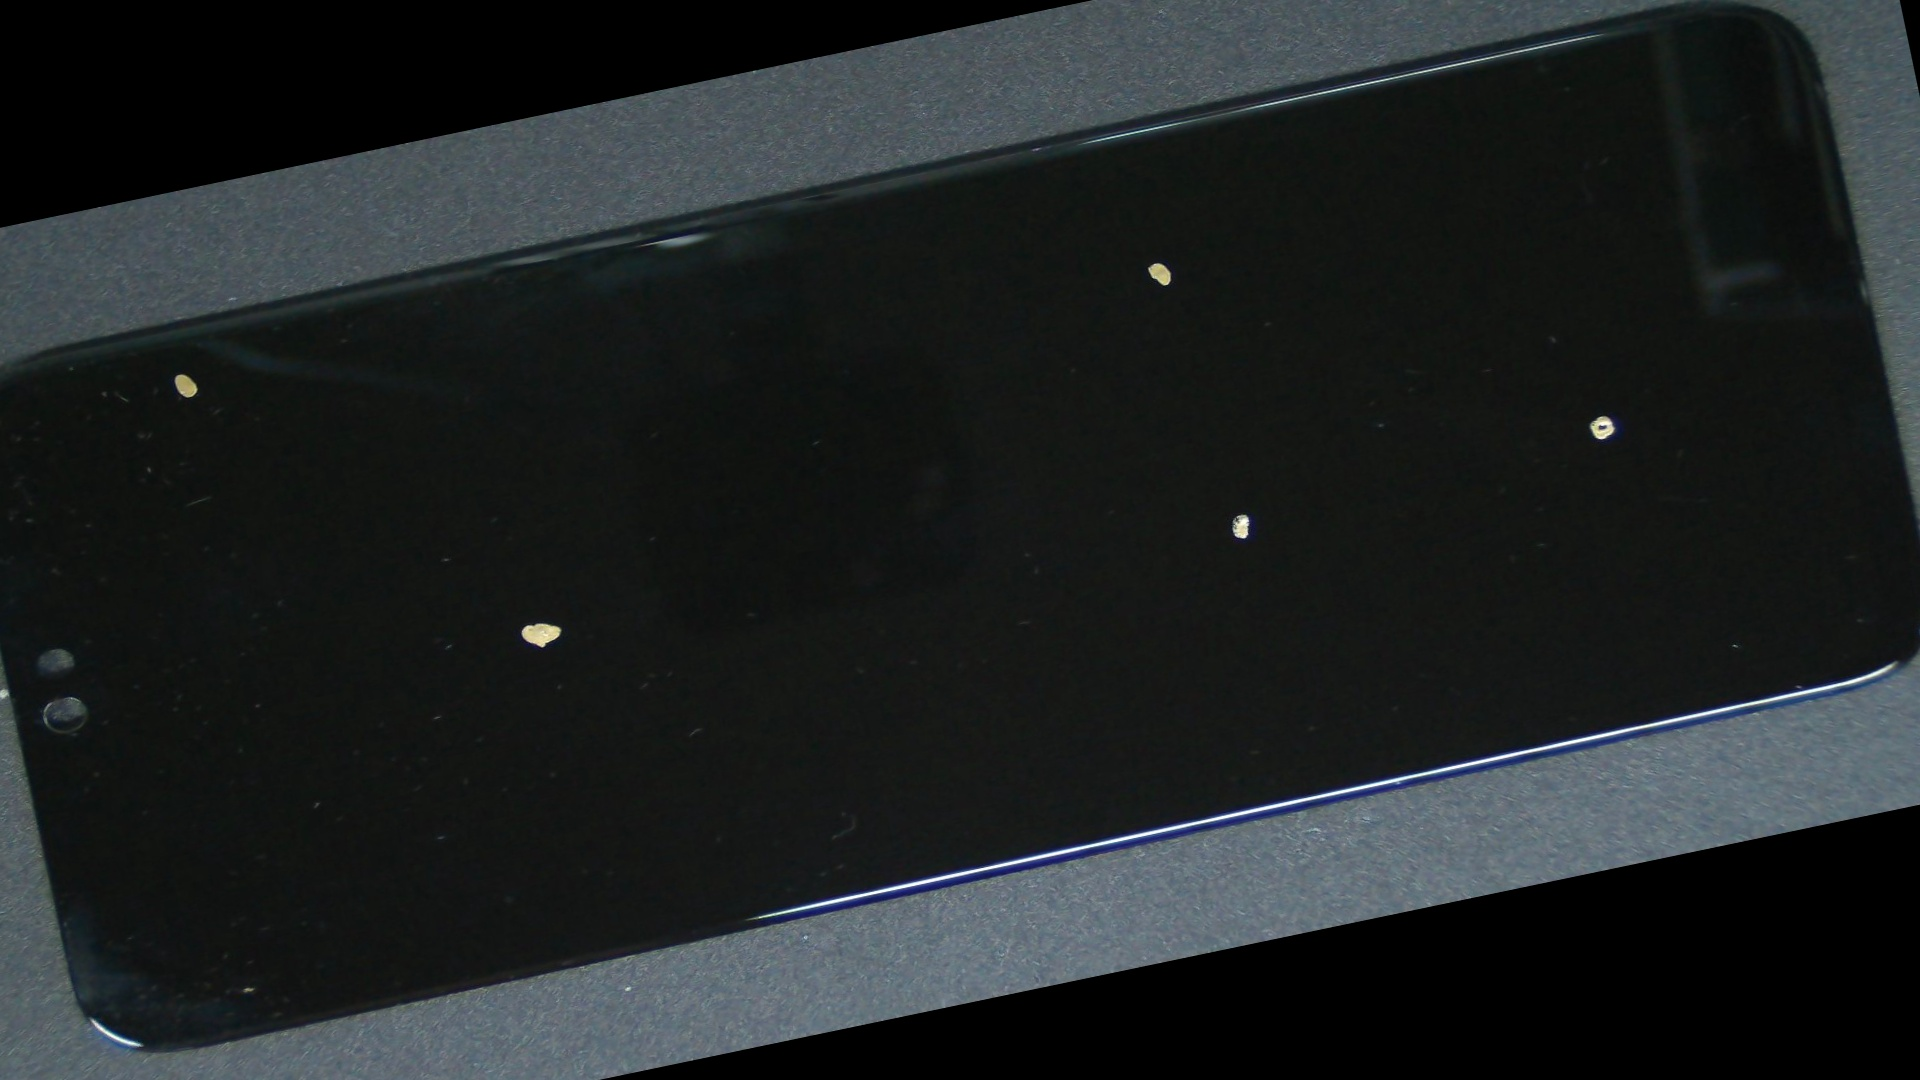oil: (506, 112, 1920, 918), (687, 88, 1920, 845), (464, 0, 1842, 533), (153, 313, 906, 934), (0, 248, 375, 500)
